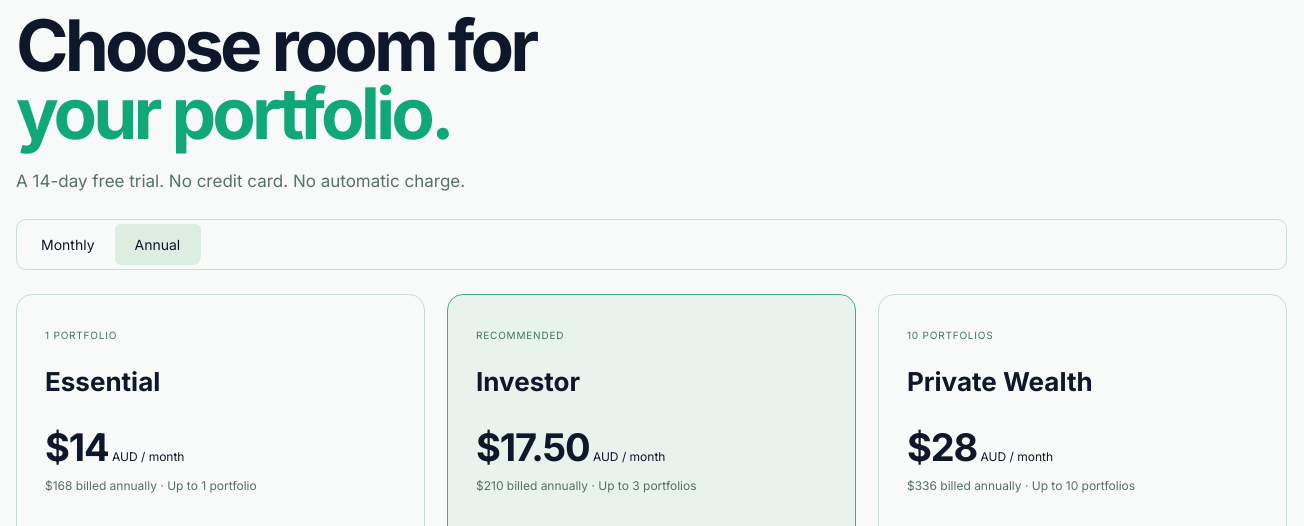
Test: public website navigation › uses the actual monthly and annual prices
Click the button "Monthly".
click(68, 245)  # box [21,224,114,265]
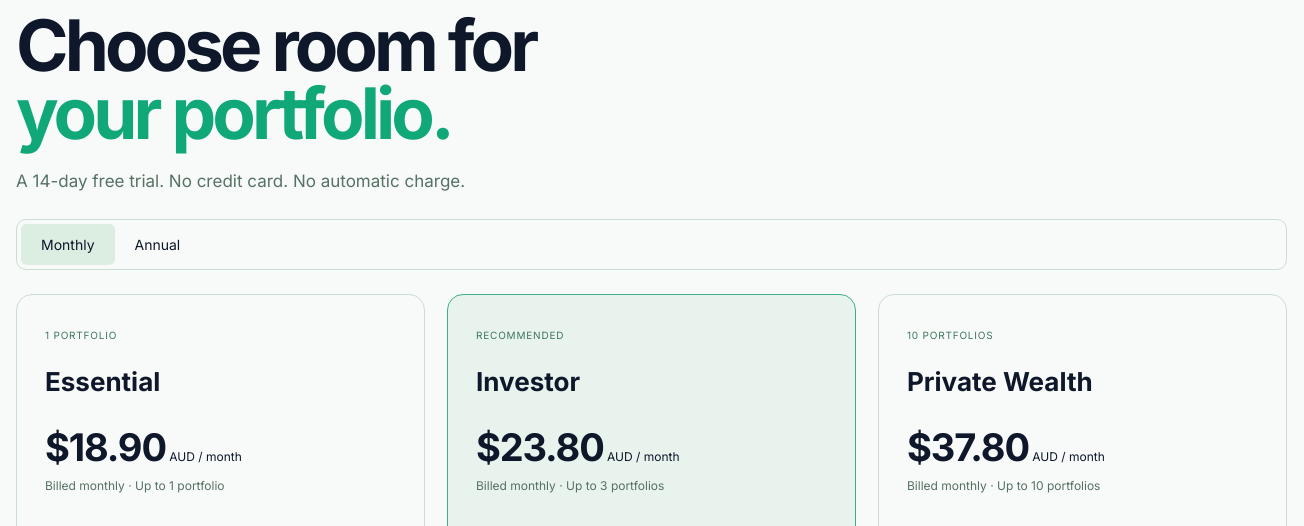
expect the text "$18.90" is shown: met, box [45,424,242,470]
Click the button "Annual".
click(157, 245)  # box [114,224,200,265]
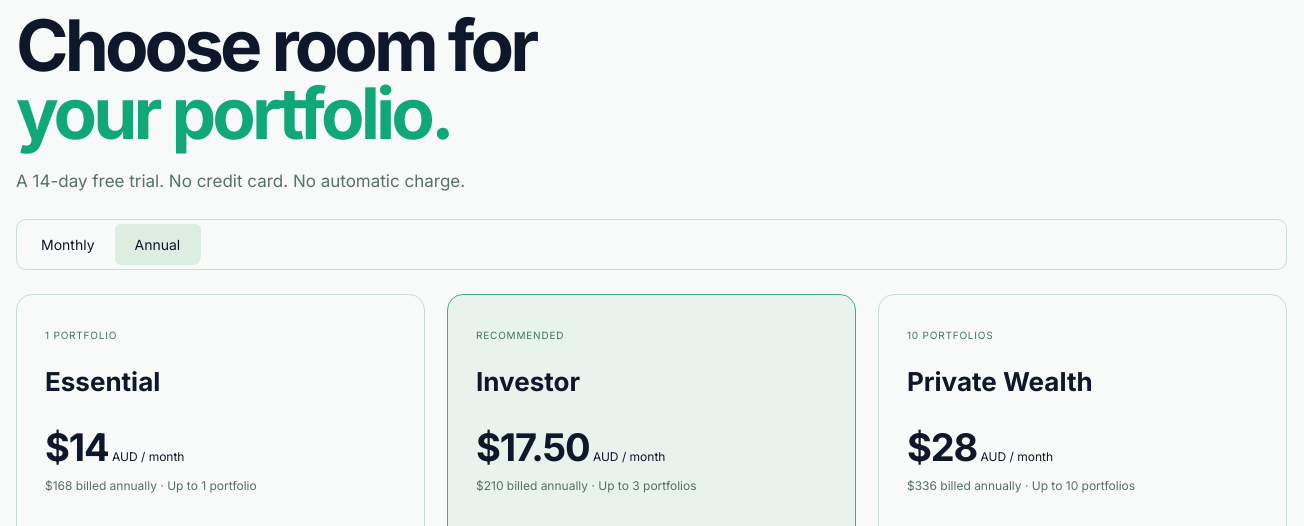
expect the text "$14" is shown: met, box [45,424,184,470]
